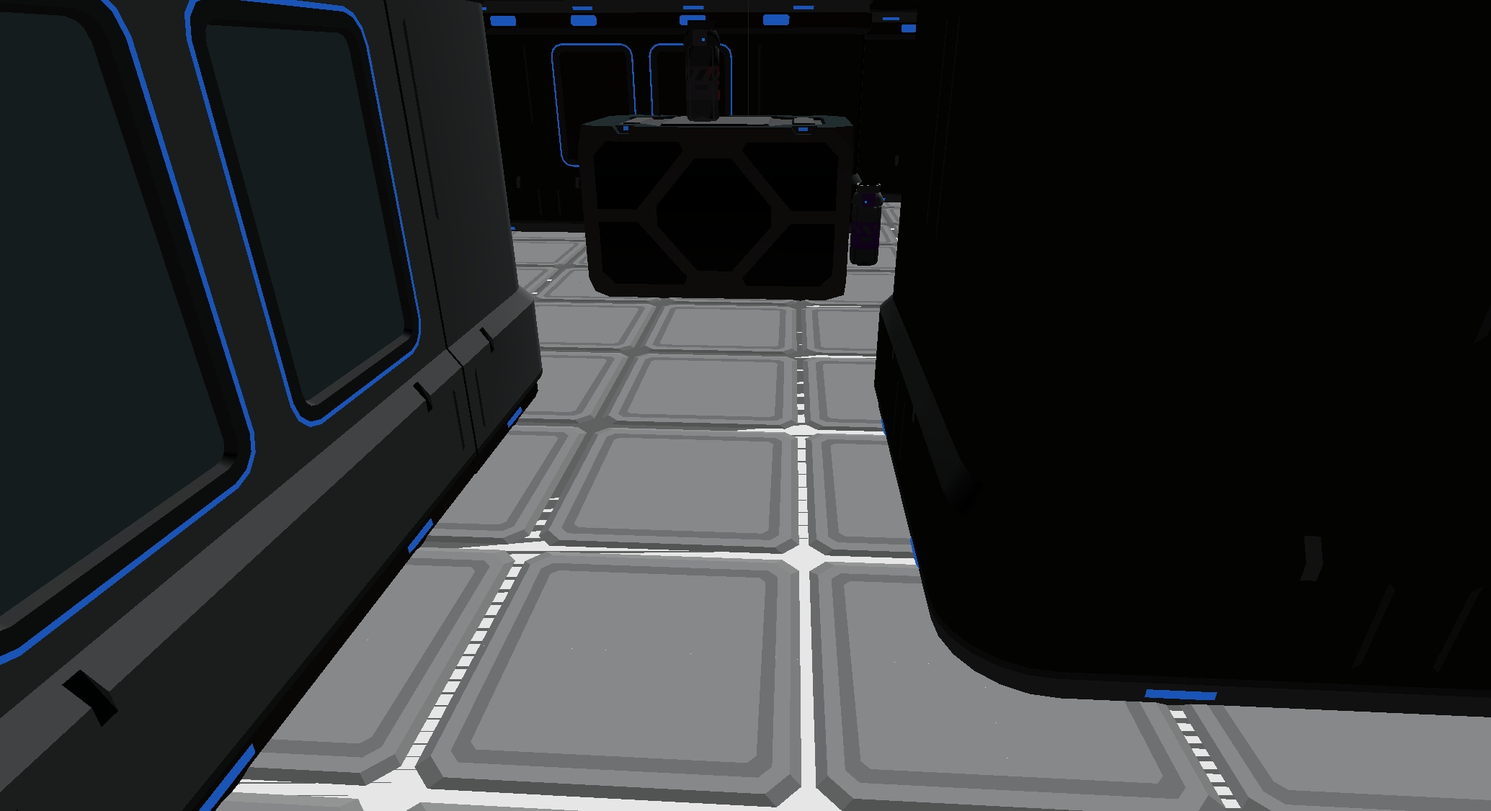red_barrel: (684, 28, 719, 120)
yellow_barrel: (849, 176, 883, 265)
